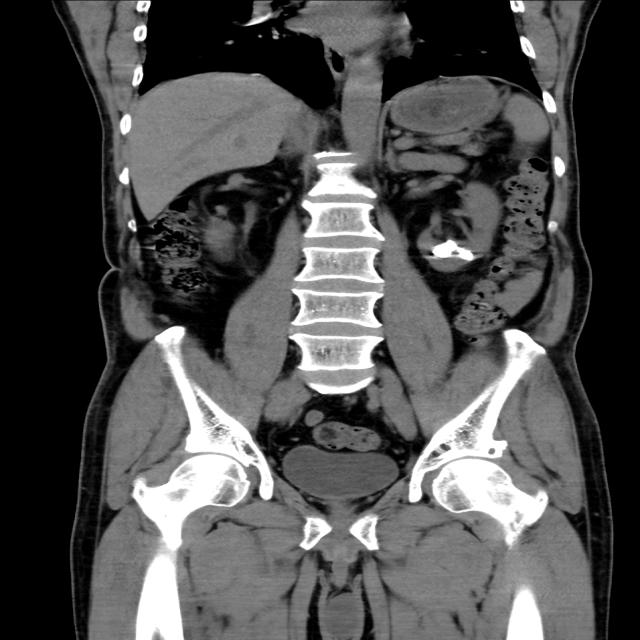kidneystone: (431, 239, 475, 261)
